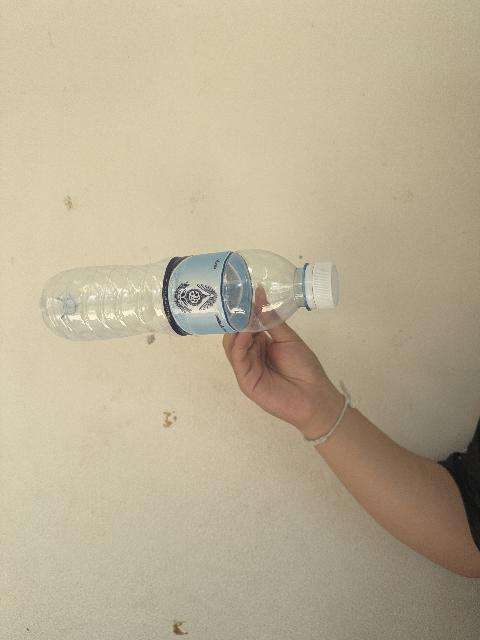bottle: (41, 250, 338, 340)
